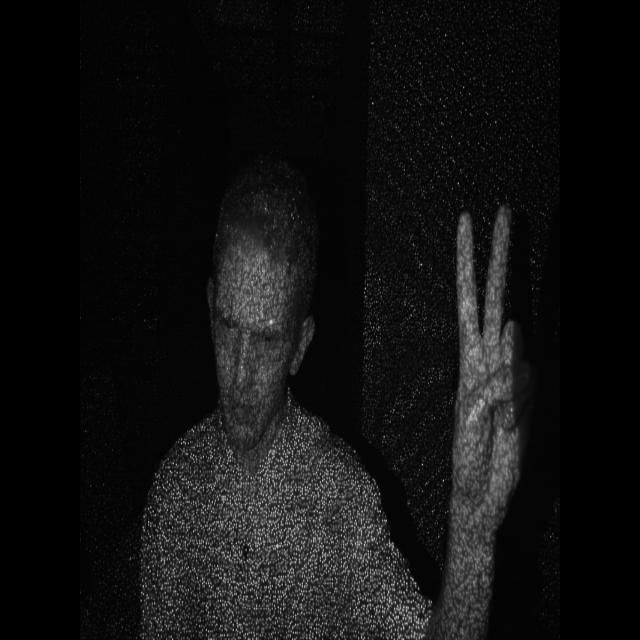V: (438, 180, 542, 521)
